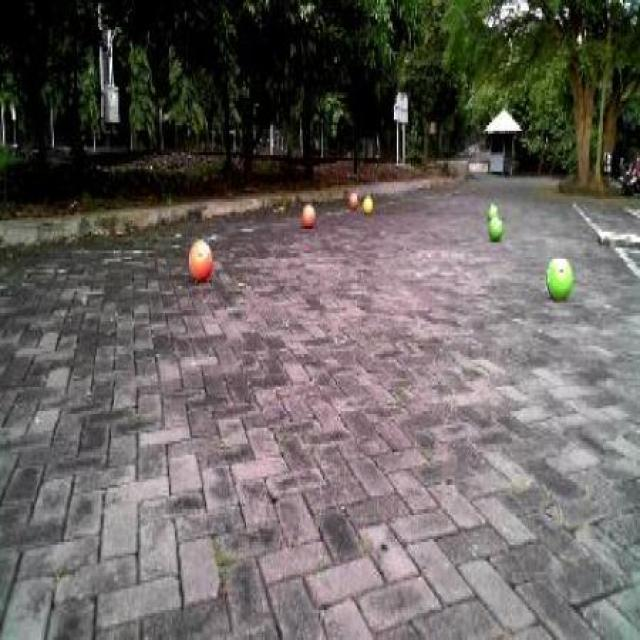buoy: (184, 230, 216, 284), (541, 250, 573, 303)
